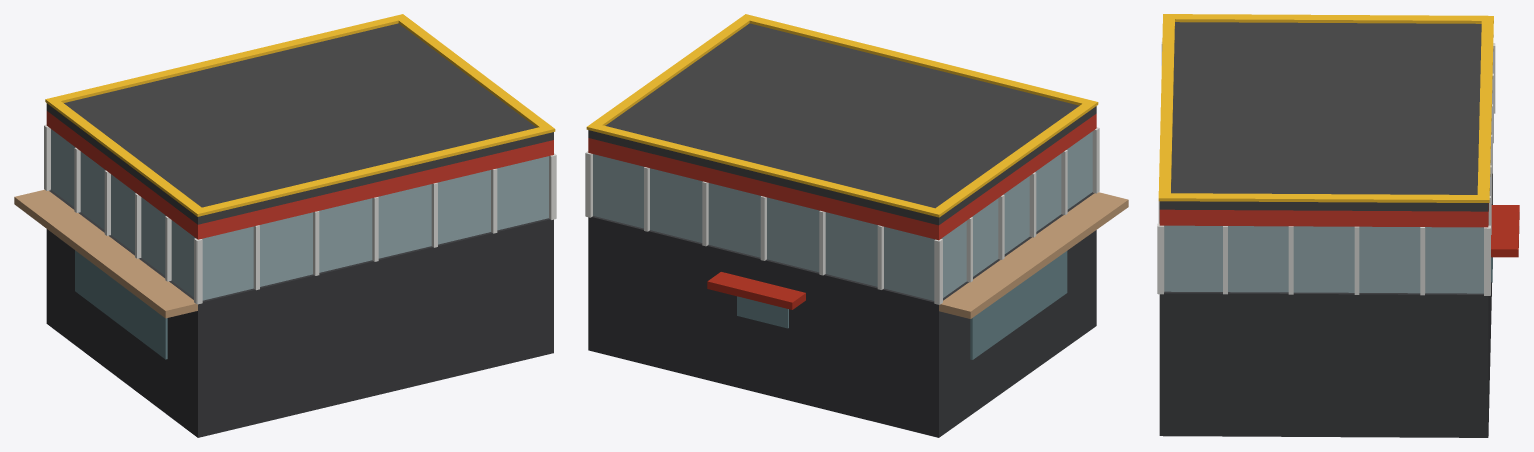
File: mcdonalds-chongde3.glb
3 views of the same model, side by side, from view 1: azimuth 30°, elevation 25°; view 2: azimuth 150°, elevation 25°; view 3: azimuth 270°, elevation 25° (orthographic). The views are drawn at different scales.
Parts seen in each view (by area): view 1: mcdonalds-chongde3; view 2: mcdonalds-chongde3; view 3: mcdonalds-chongde3.
Boxes of the visible parts, bbox=[...] form: mcdonalds-chongde3: bbox=[14, 14, 556, 437]; mcdonalds-chongde3: bbox=[585, 14, 1128, 437]; mcdonalds-chongde3: bbox=[1157, 14, 1519, 437].
Bounding box in the file's own units: 21.91 × 12 × 16.54.
